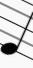note: (1, 1, 33, 58)
